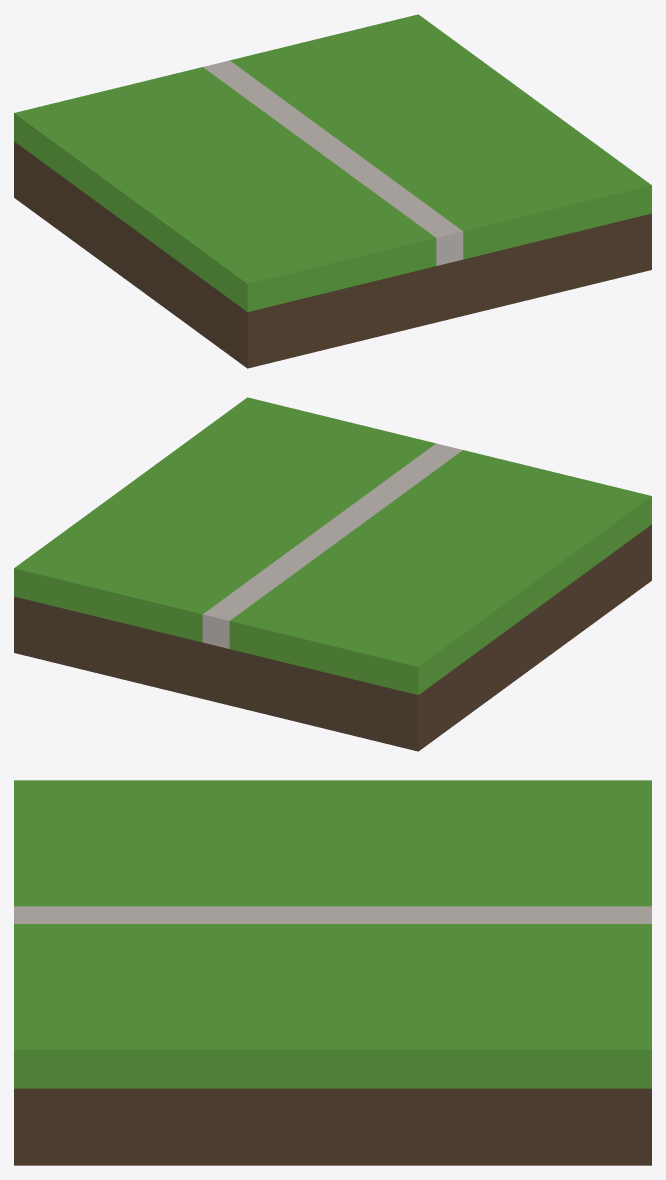
The model's file is tile-sidewalk-straight.glb.
3 renders of one model, top to bottom at view 1: azimuth 30°, elevation 25°; view 2: azimuth 150°, elevation 25°; view 3: azimuth 270°, elevation 25°, orthographic. The views are drawn at different scales.
Parts seen in each view (by area): view 1: tile-sidewalk-straight; view 2: tile-sidewalk-straight; view 3: tile-sidewalk-straight.
Part boxes in pixels (bbox=[...]): tile-sidewalk-straight: bbox=[14, 14, 651, 368]; tile-sidewalk-straight: bbox=[14, 397, 651, 751]; tile-sidewalk-straight: bbox=[14, 780, 651, 1165].
Size of the model in its own units: 30 by 6 by 30.
Materials: 1 (1 with a texture image).
